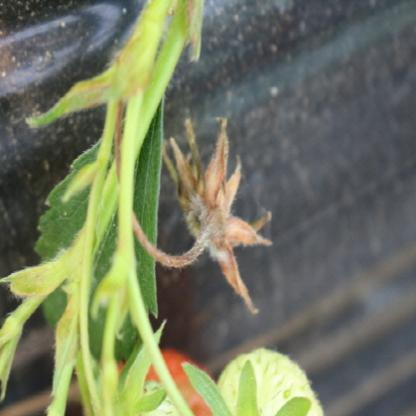Strawberry_Gray_Mold: (162, 117, 274, 314)
